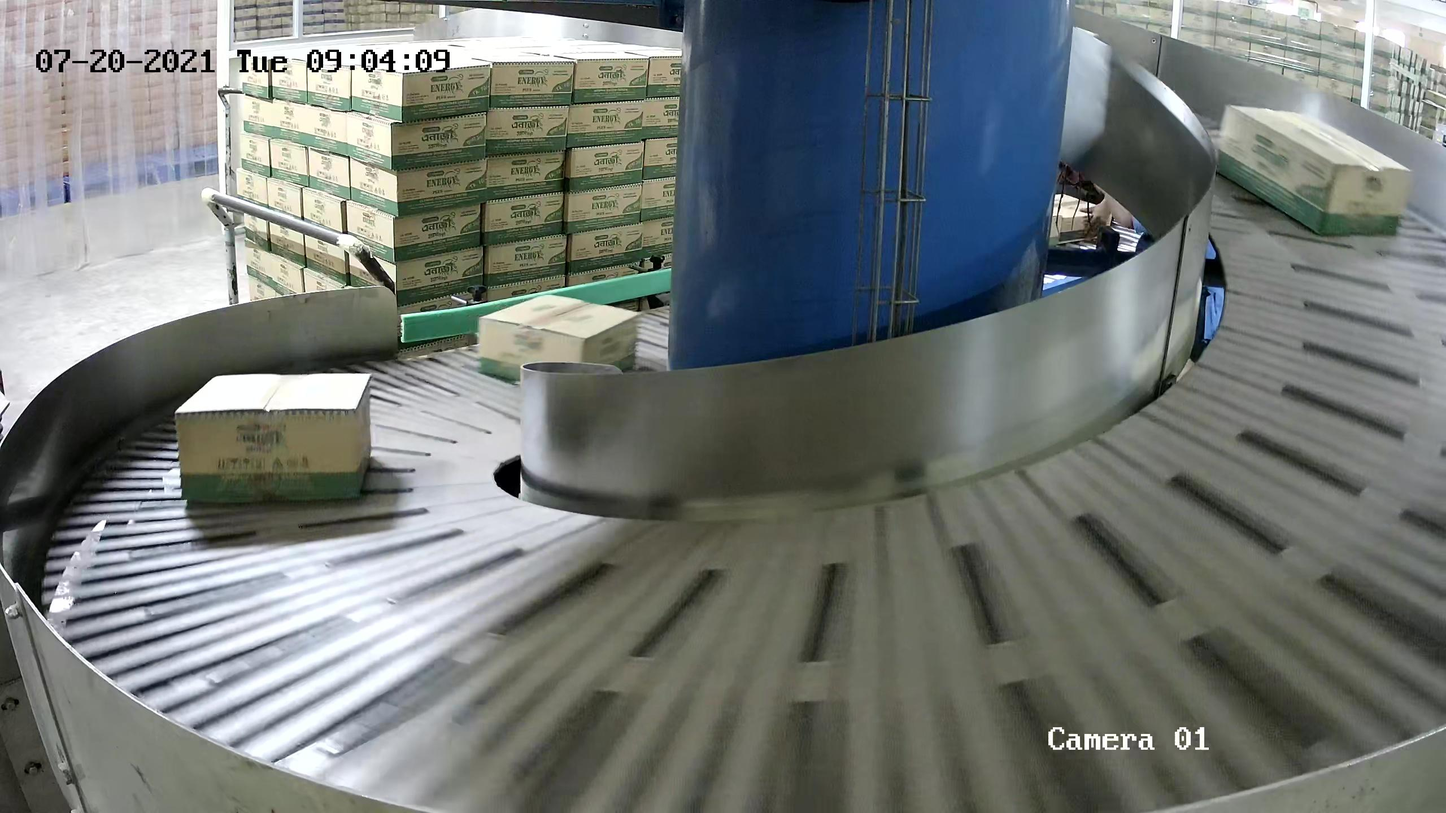Box: (1214, 103, 1412, 240), (174, 372, 376, 506), (479, 294, 642, 396)
